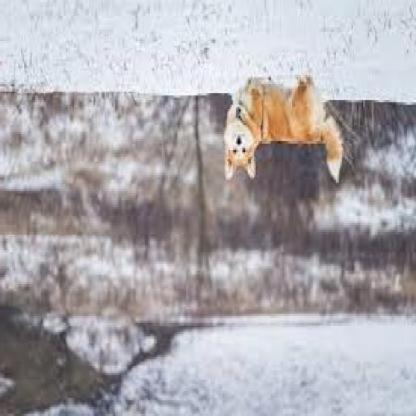dog: (223, 73, 344, 184)
